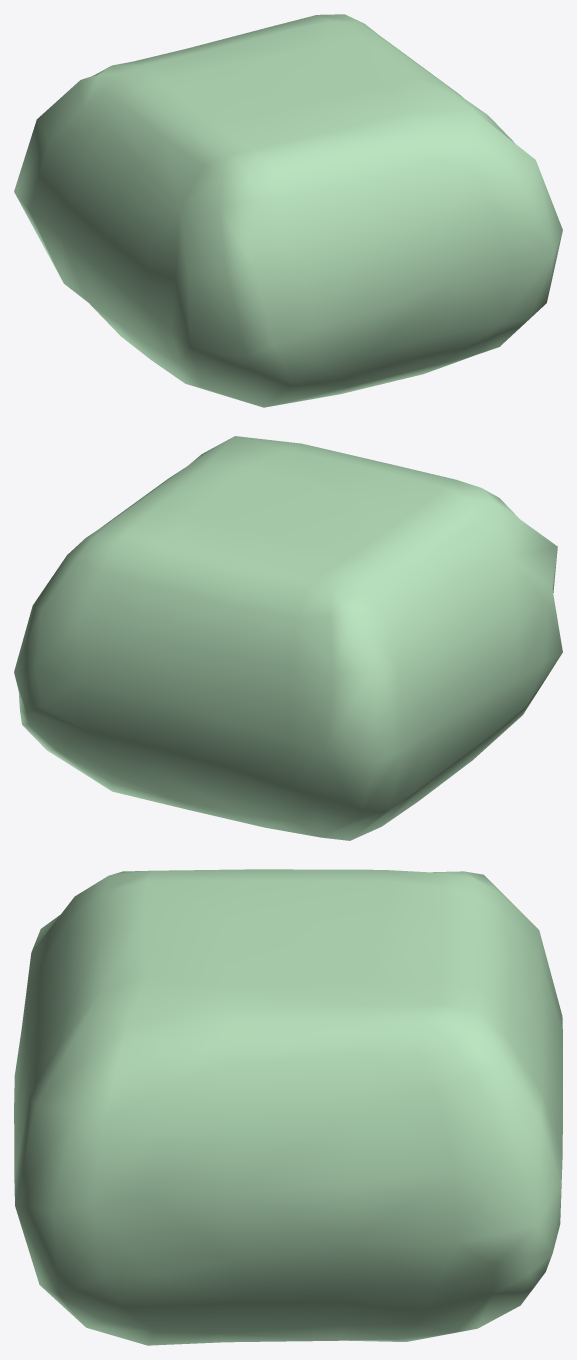
File: Table_02.fbx
The picture shows the model from 3 angles, top to bottom: view 1: azimuth 30°, elevation 25°; view 2: azimuth 150°, elevation 25°; view 3: azimuth 270°, elevation 25°; orthographic projection. The views are drawn at different scales.
Parts seen in each view (by area): view 1: Table2; view 2: Table2; view 3: Table2.
Part boxes in pixels (<box>): Table2: <box>14,14,562,407</box>; Table2: <box>14,436,562,840</box>; Table2: <box>14,869,562,1345</box>.
Size of the model in its own units: 2 by 1.34 by 2.
